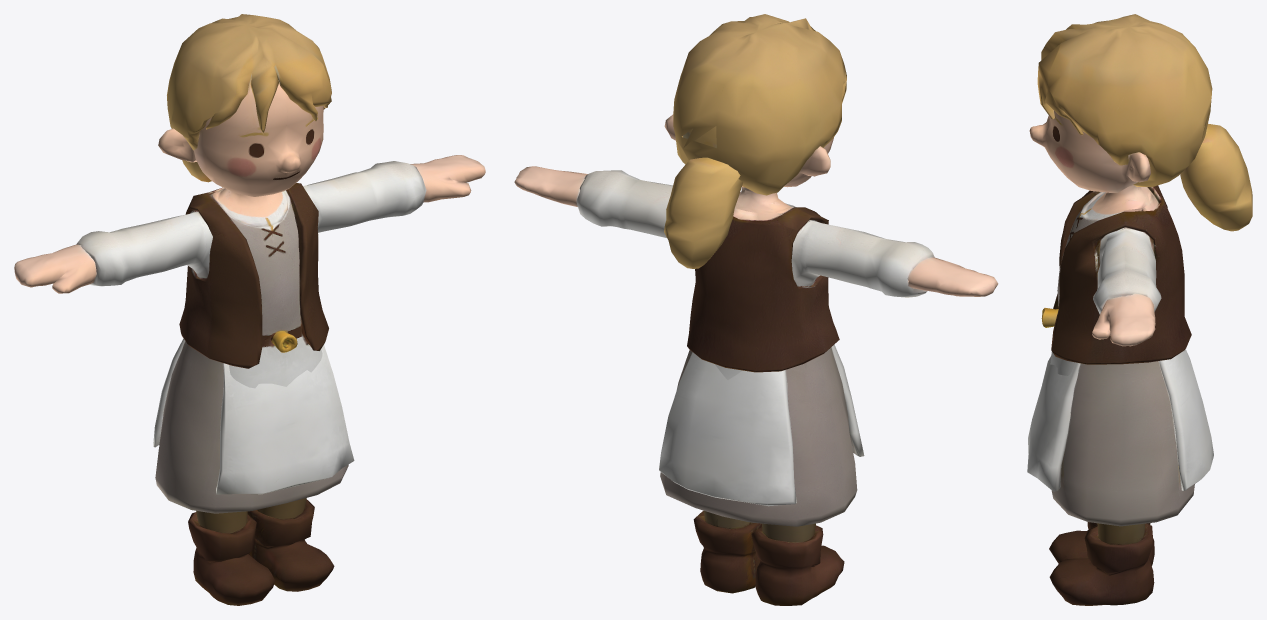
Rendered from Bell.fbx.
3 views of the same model, side by side, from view 1: azimuth 30°, elevation 25°; view 2: azimuth 150°, elevation 25°; view 3: azimuth 270°, elevation 25° (orthographic). The views are drawn at different scales.
Parts seen in each view (by area): view 1: mesh_node; view 2: mesh_node; view 3: mesh_node.
Boxes of the visible parts, left/top/right/bottom form: mesh_node: left=14, top=14, right=485, bottom=605; mesh_node: left=514, top=14, right=998, bottom=605; mesh_node: left=1027, top=14, right=1252, bottom=605.
Bounding box in the file's own units: 87.5 × 99.02 × 36.52.
Materials: 1 (1 with a texture image).
